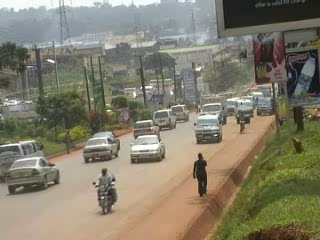Car: (5, 153, 62, 194), (126, 131, 168, 165), (82, 136, 120, 163), (128, 118, 163, 140), (89, 127, 121, 149)
Motorcycle: (89, 168, 119, 215), (192, 99, 201, 114)
